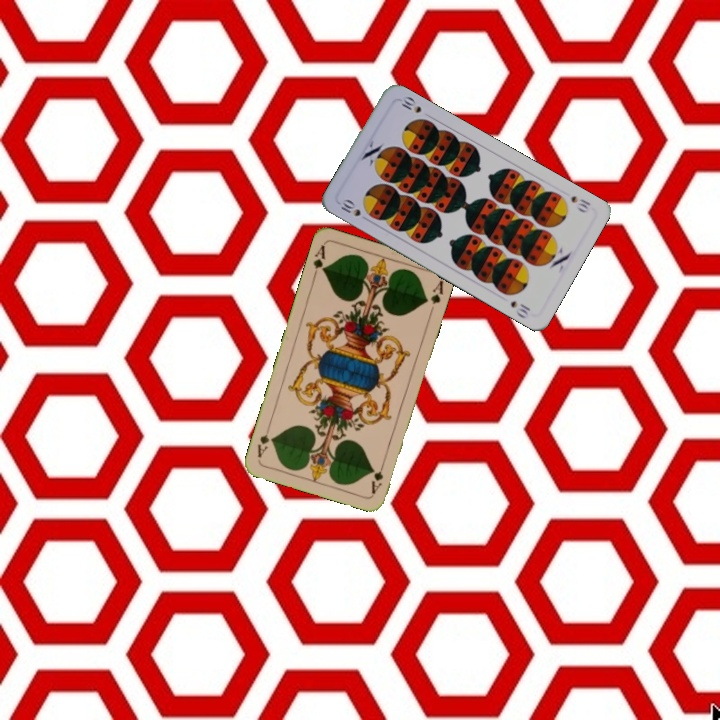GA: (367, 457, 388, 496), (309, 241, 328, 281)
S10: (337, 195, 363, 219), (567, 192, 593, 215)
